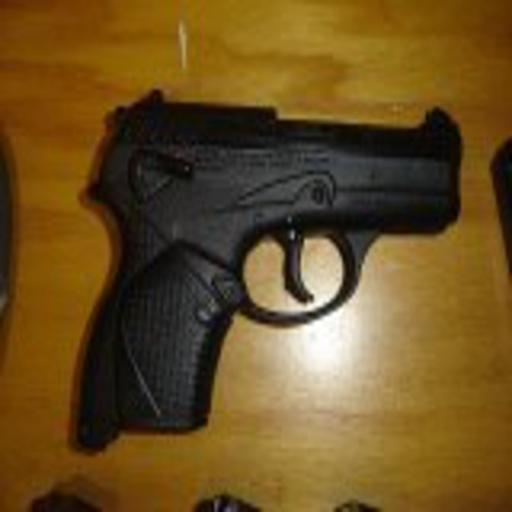Handgun: (79, 80, 463, 447)
